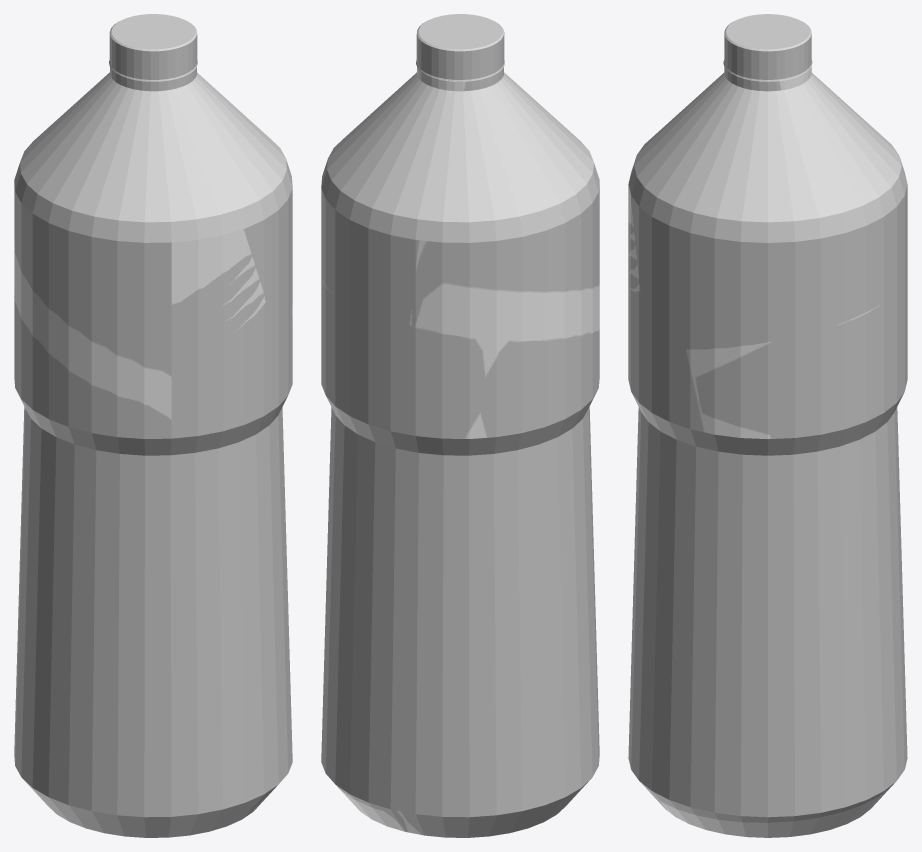
The model's file is petbottles.fbx.
The picture shows the model from 3 angles, left to right: view 1: azimuth 30°, elevation 25°; view 2: azimuth 150°, elevation 25°; view 3: azimuth 270°, elevation 25°; orthographic projection.
Visible parts, largest first — view 1: bottle_円柱, cap; view 2: bottle_円柱, cap; view 3: bottle_円柱, cap.
Part boxes in pixels (left/top/right/bottom): bottle_円柱: left=14, top=67, right=292, bottom=837; cap: left=109, top=14, right=197, bottom=81; bottle_円柱: left=321, top=67, right=599, bottom=837; cap: left=416, top=14, right=504, bottom=81; bottle_円柱: left=628, top=67, right=907, bottom=837; cap: left=723, top=14, right=812, bottom=81.
Size of the model in its own units: 200 by 600 by 200.
